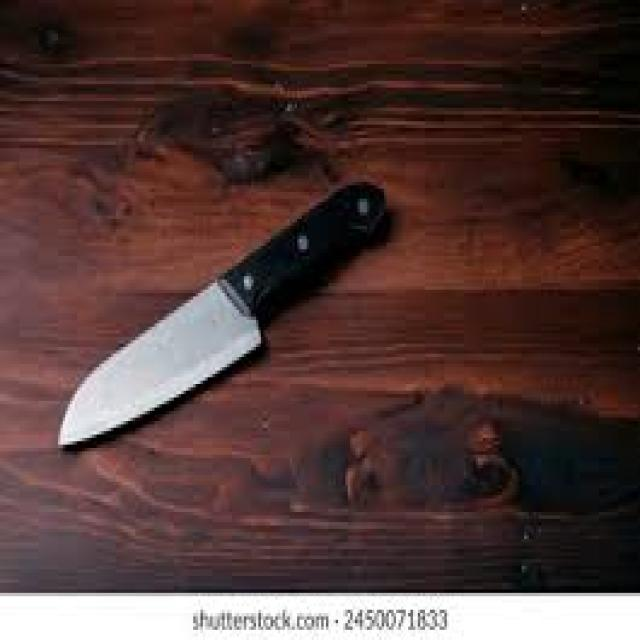Knife: (56, 179, 387, 448)
